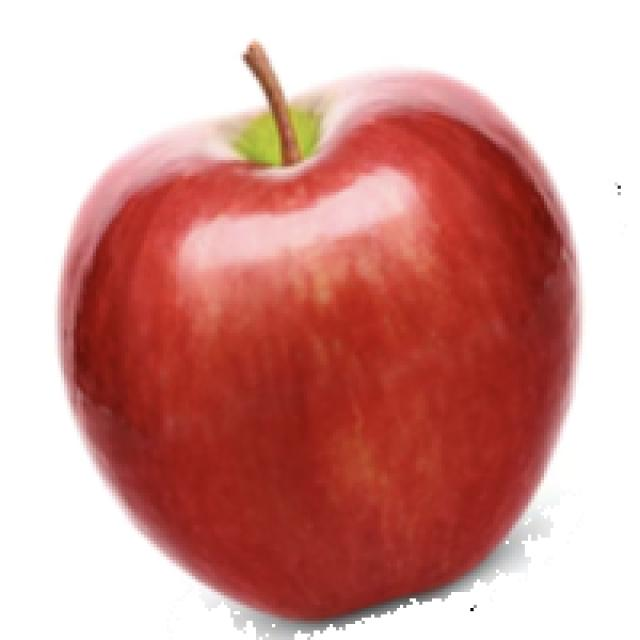apple: (51, 35, 586, 637)
